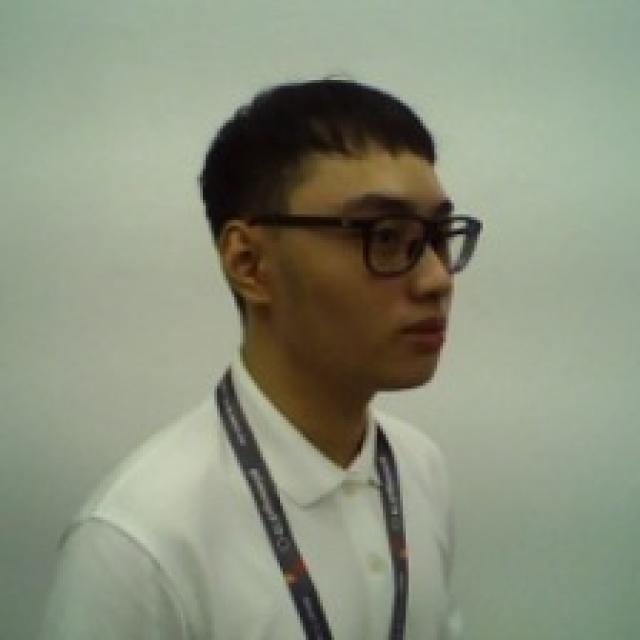no_gloves: (193, 78, 452, 218)
no_hairnet: (212, 222, 468, 401)
